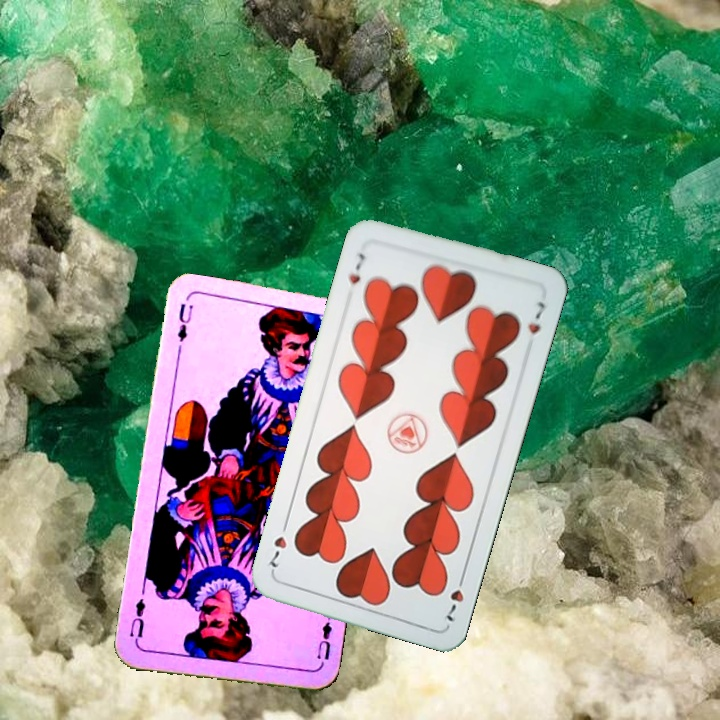EU: (171, 299, 195, 345), (313, 618, 335, 663)
H7: (439, 569, 468, 625), (344, 249, 368, 287)
